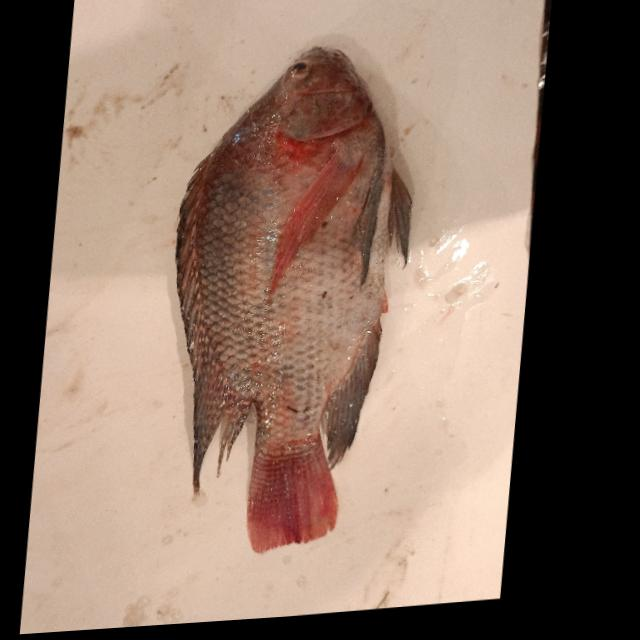Tilapia: (139, 36, 435, 564)
